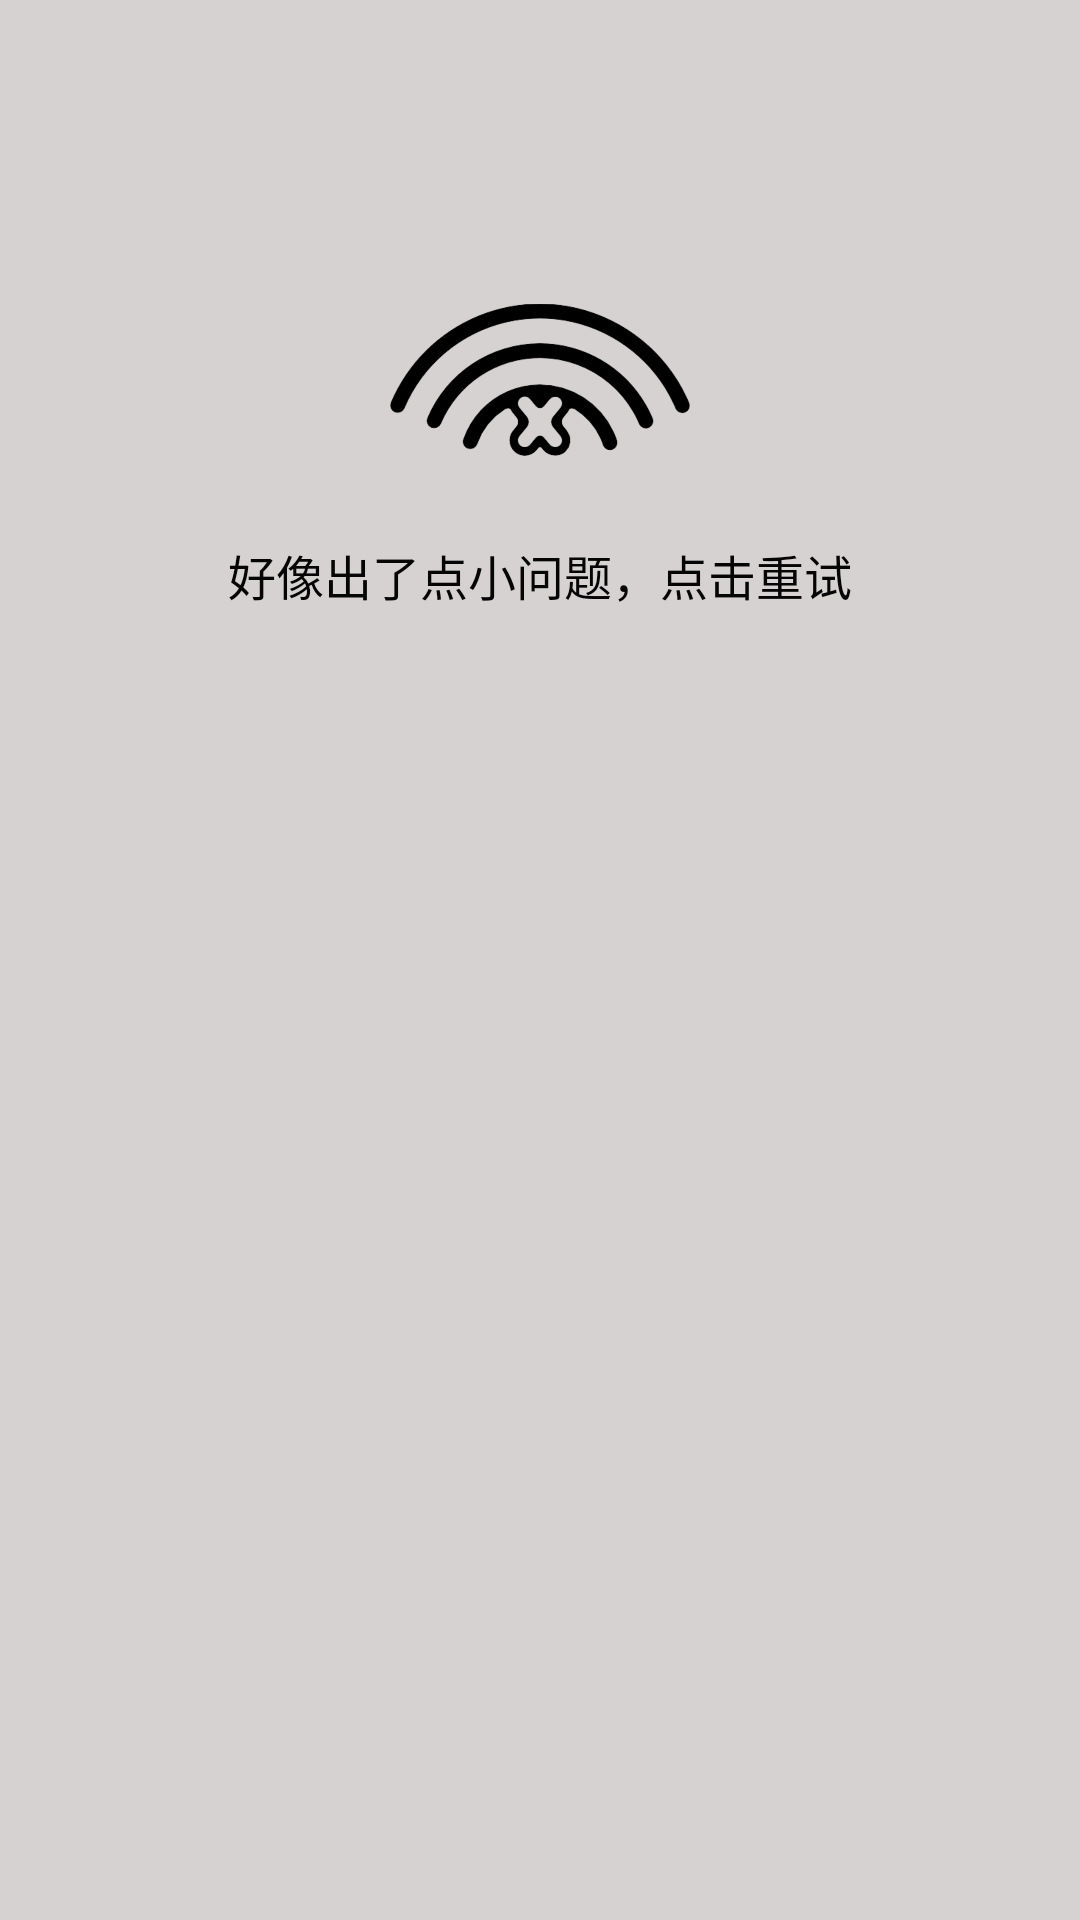

Named icons in this screenshot (1080w x 1920h) and their centers, (x,y):
netpic: (540,380)
